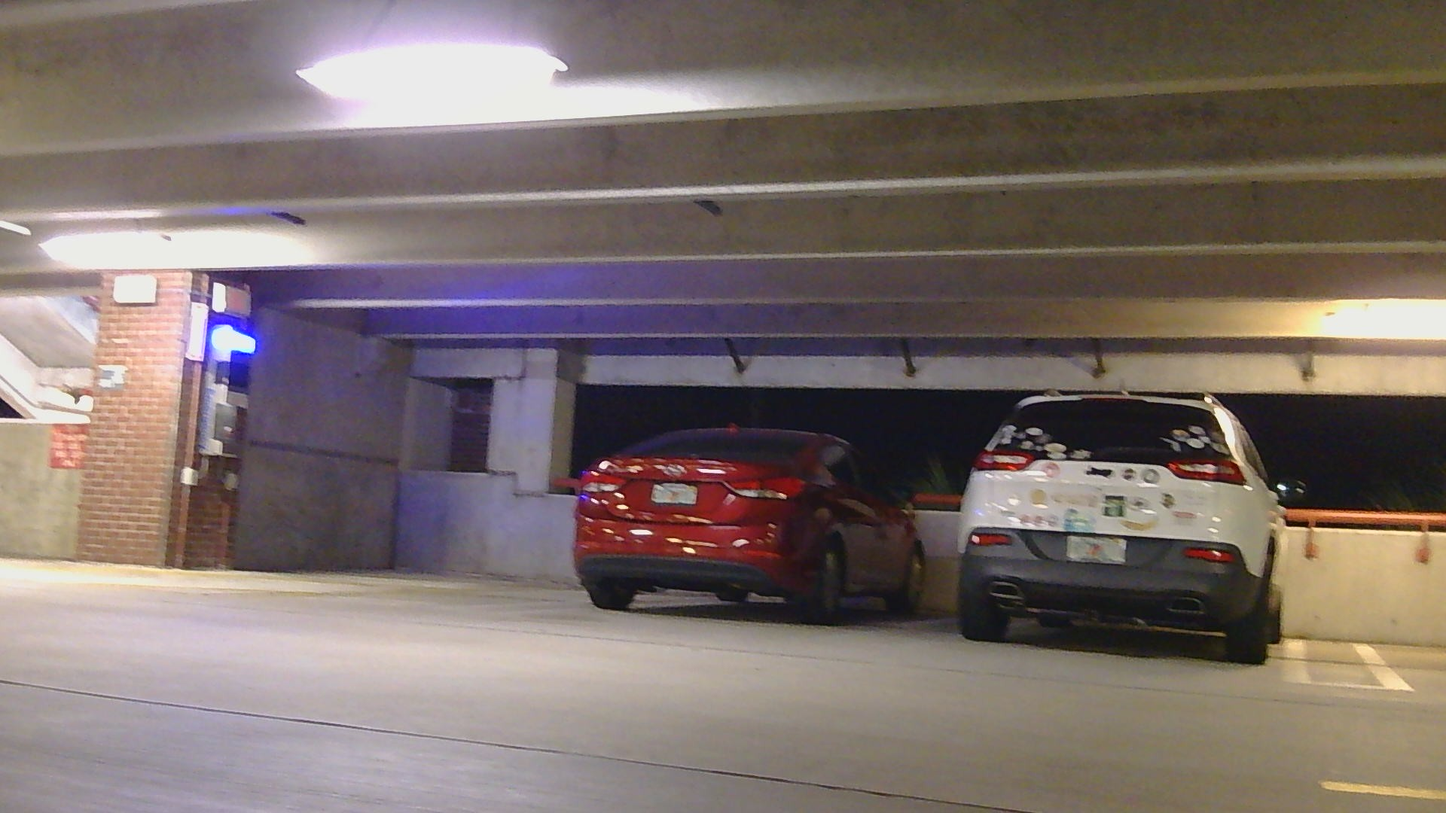occupied_spot: (956, 385, 1314, 661), (573, 424, 926, 615)
